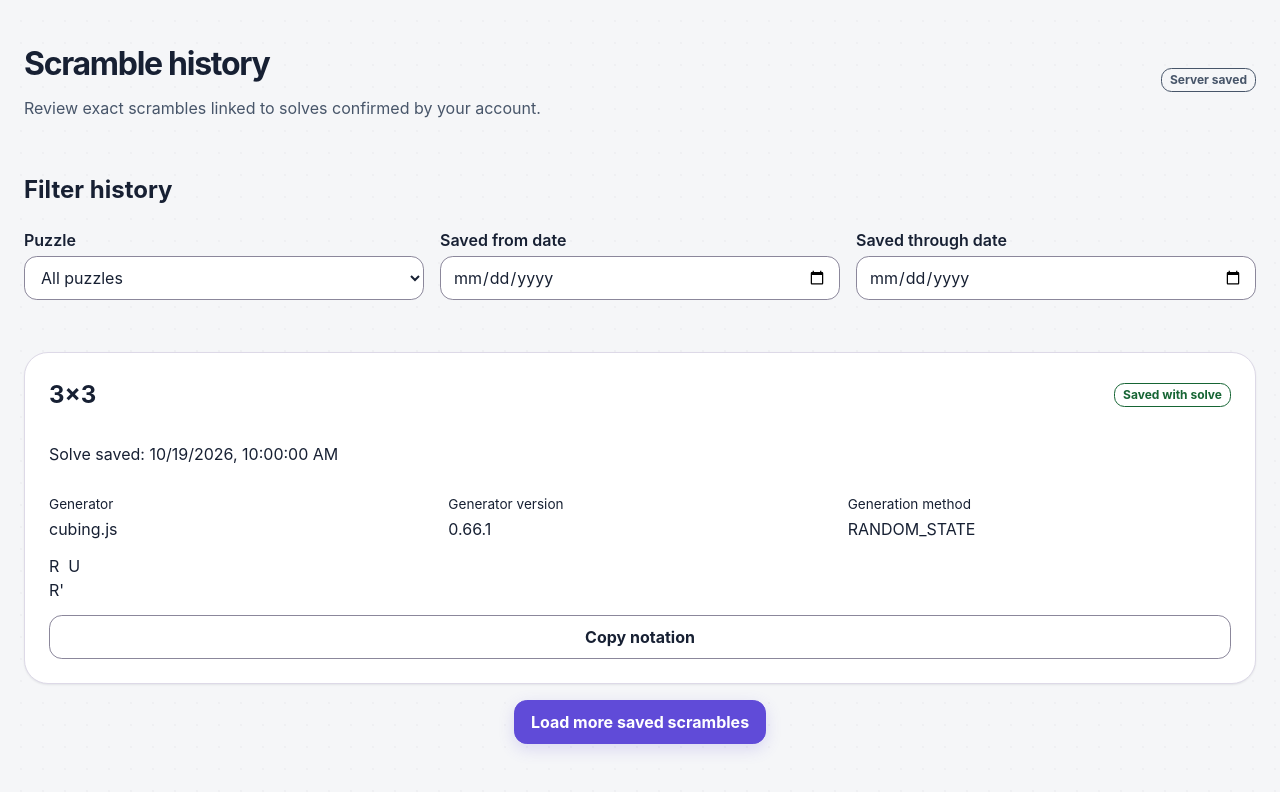
Test: ScrambleHistoryPage › loads a bounded next page and removes duplicate solve IDs at page boundaries
The width and height of the screenshot is (1280, 792).
Expected: the text named "Exact saved scramble notation" is shown, [49,556,80,600]
What coordinates should you click on to do the following:
click the button "Load more saved scrambles"
I would click on:
 (640, 722)
Its box is [514,700,766,744].
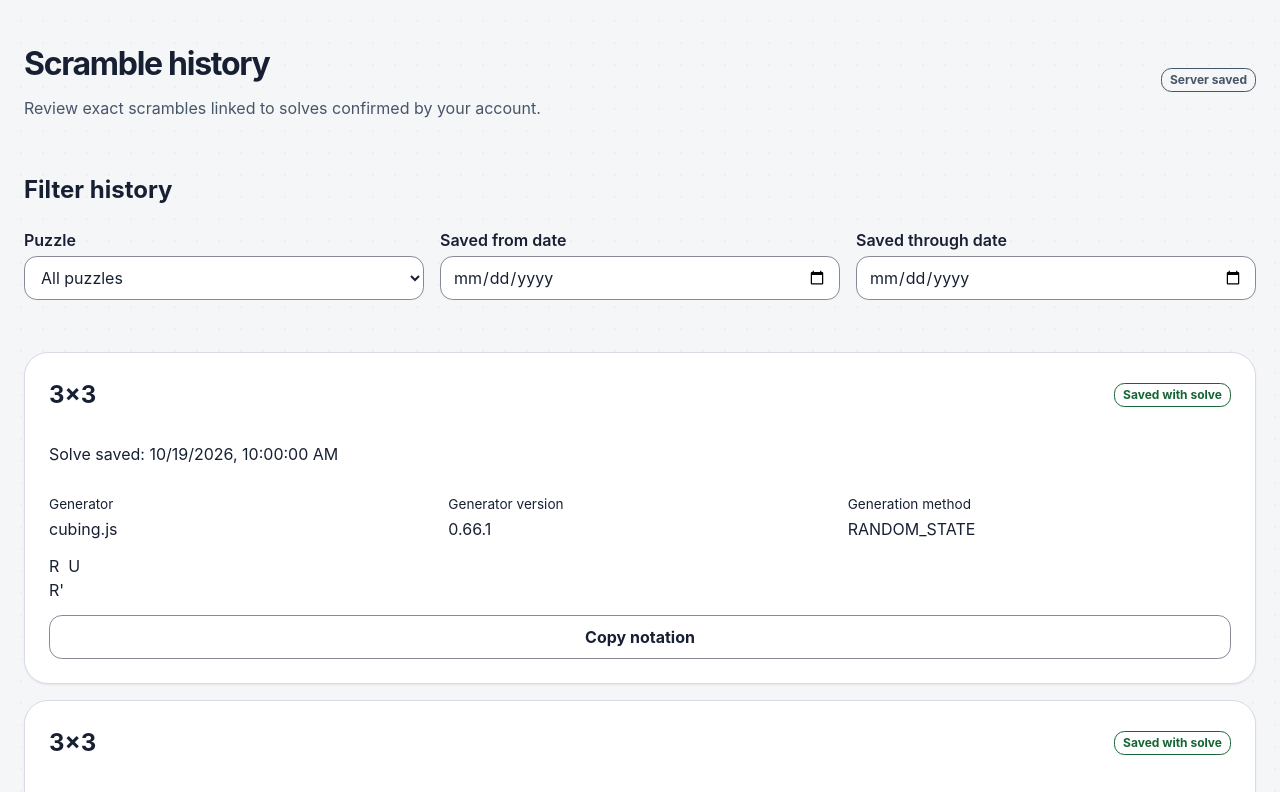
Result: the text "Saved with solve" is shown 2 times at [1114,383,1231,407]; [1114,731,1231,755]
